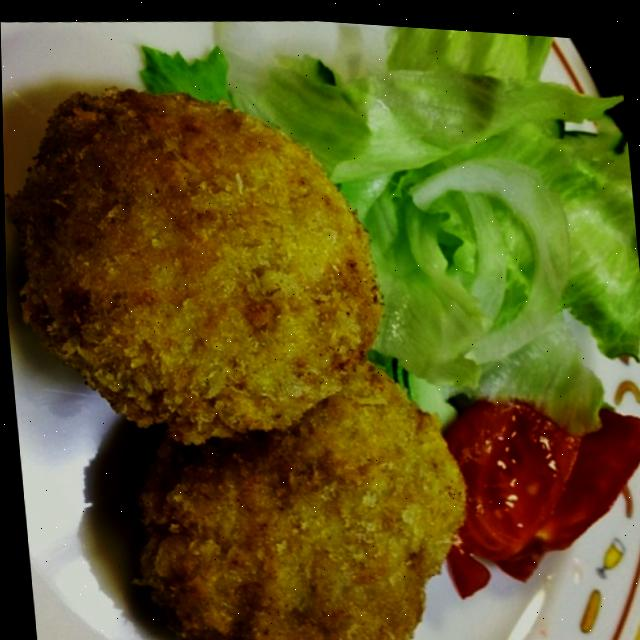炸货点心: (1, 44, 489, 640)
